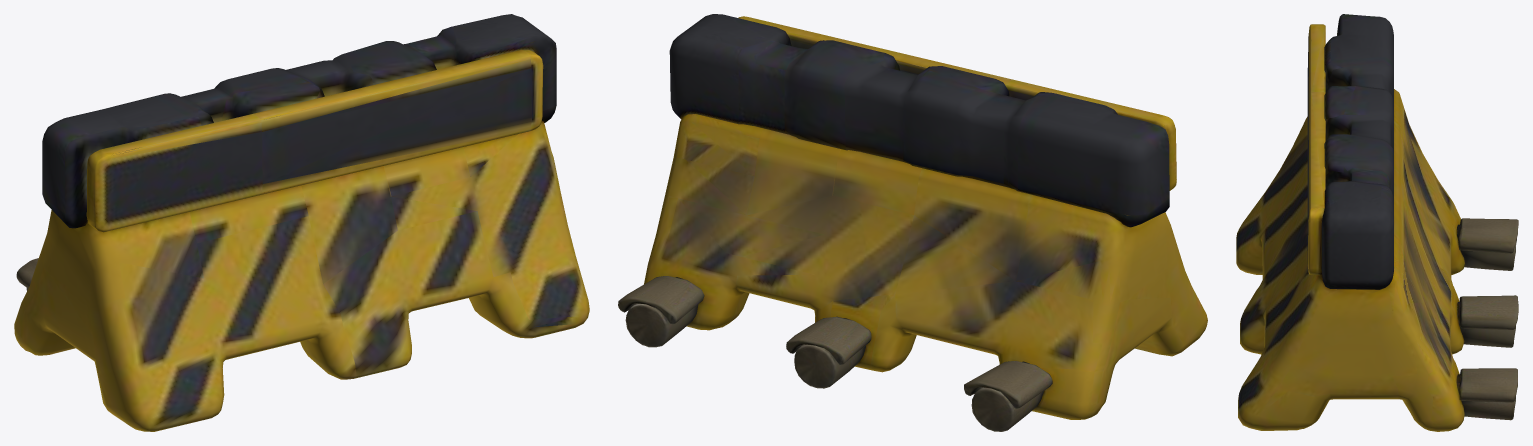
Rendered from prop_barrier.glb.
The picture shows the model from 3 angles, left to right: view 1: azimuth 30°, elevation 25°; view 2: azimuth 150°, elevation 25°; view 3: azimuth 270°, elevation 25°; orthographic projection. The views are drawn at different scales.
Visible parts, largest first — view 1: tripo_node_934cece4-eff7-4198-bf0a-c91e0c1b63ed; view 2: tripo_node_934cece4-eff7-4198-bf0a-c91e0c1b63ed; view 3: tripo_node_934cece4-eff7-4198-bf0a-c91e0c1b63ed.
Part boxes in pixels (<box>): tripo_node_934cece4-eff7-4198-bf0a-c91e0c1b63ed: <box>14,14,589,431</box>; tripo_node_934cece4-eff7-4198-bf0a-c91e0c1b63ed: <box>618,14,1207,431</box>; tripo_node_934cece4-eff7-4198-bf0a-c91e0c1b63ed: <box>1236,14,1518,431</box>.
Bounding box in the file's own units: 0.998 × 0.5137 × 0.5801.
Materials: 1 (1 with a texture image).
